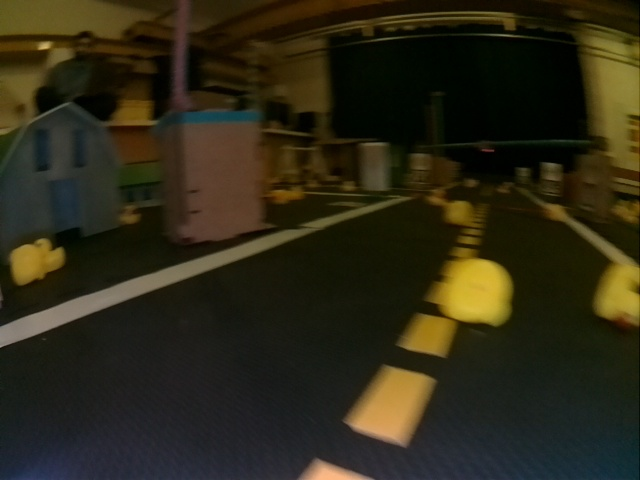Duckie: (443, 259, 510, 325), (592, 265, 638, 326), (11, 247, 42, 284), (38, 238, 65, 272), (446, 201, 473, 224), (116, 204, 141, 224), (547, 203, 567, 222), (275, 190, 286, 201), (344, 183, 353, 190)
